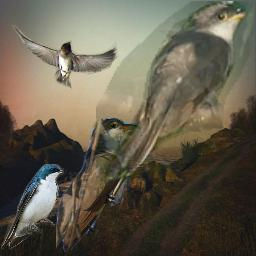Cuckoo: (96, 1, 254, 186), (56, 118, 163, 252)
Swallow: (12, 25, 119, 89), (1, 164, 64, 250)
